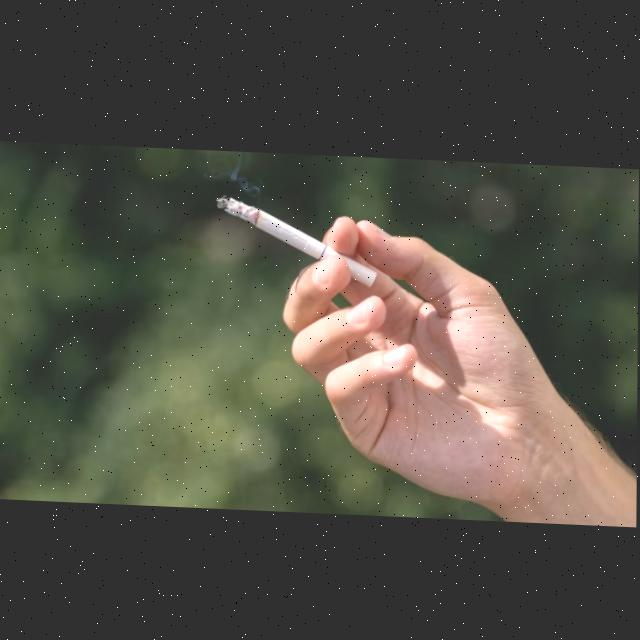cigarette: (215, 193, 378, 284)
